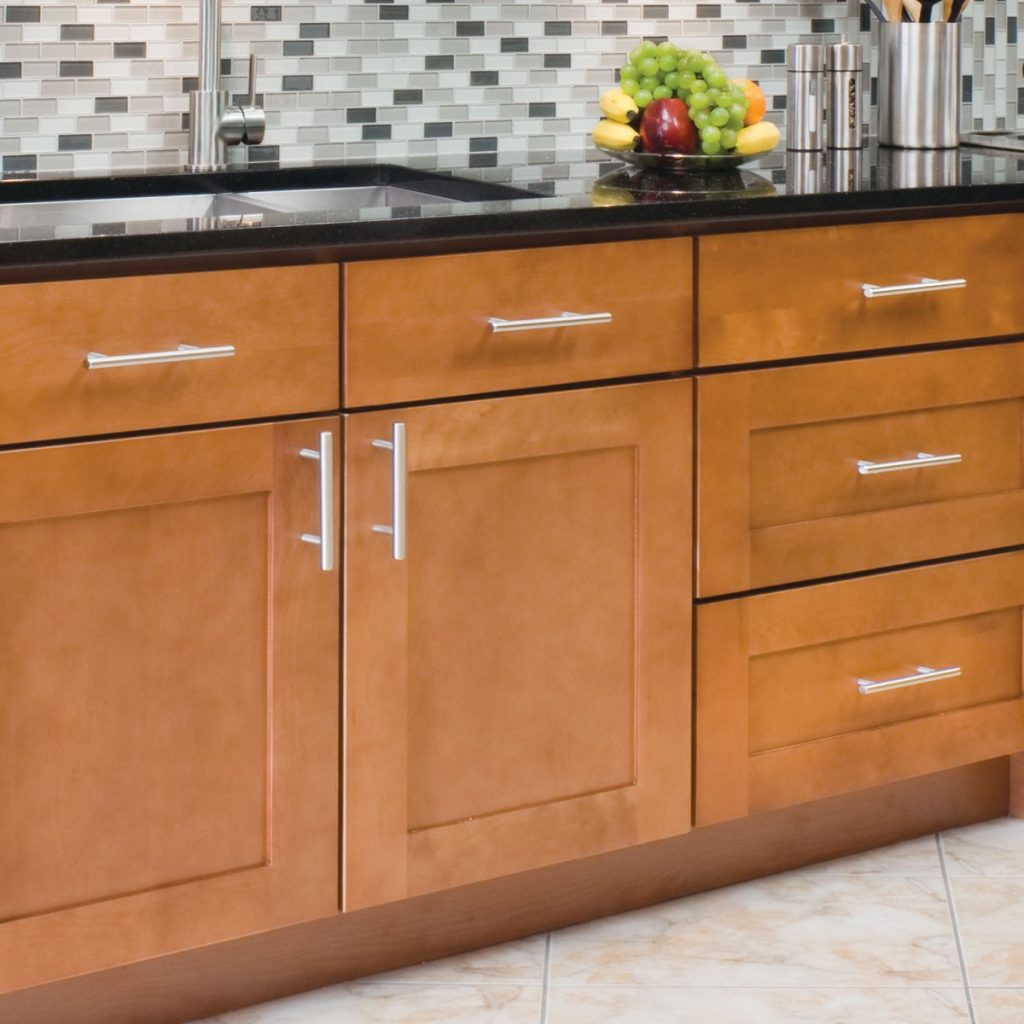cabinet door: (9, 420, 338, 914), (350, 410, 690, 836), (715, 373, 1024, 552), (723, 572, 1022, 752), (0, 289, 347, 404), (351, 273, 690, 390), (712, 233, 1024, 358)
handle: (74, 330, 251, 381), (462, 294, 628, 346), (361, 421, 418, 566), (847, 664, 972, 714), (294, 437, 338, 573), (850, 439, 966, 486), (845, 276, 978, 311)
